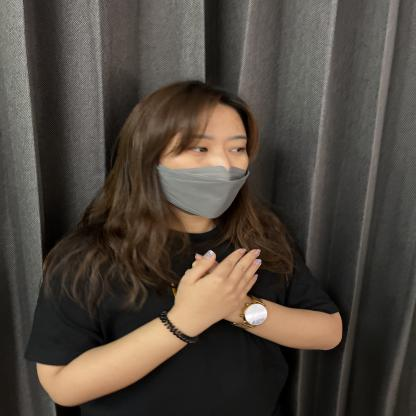Grieve: (73, 197, 344, 375)
